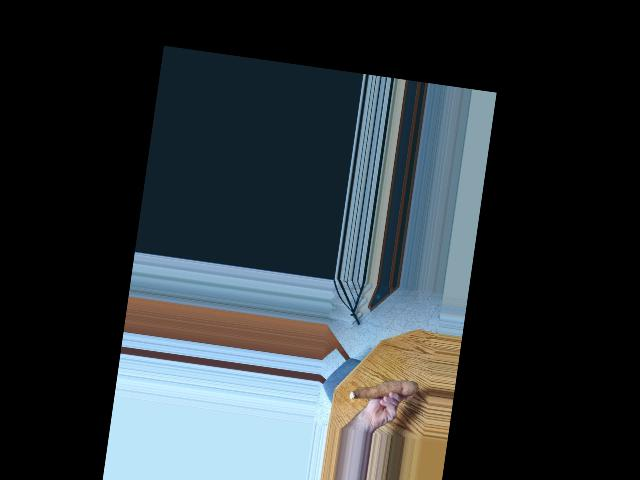sweet_potato: (347, 370, 418, 408)
